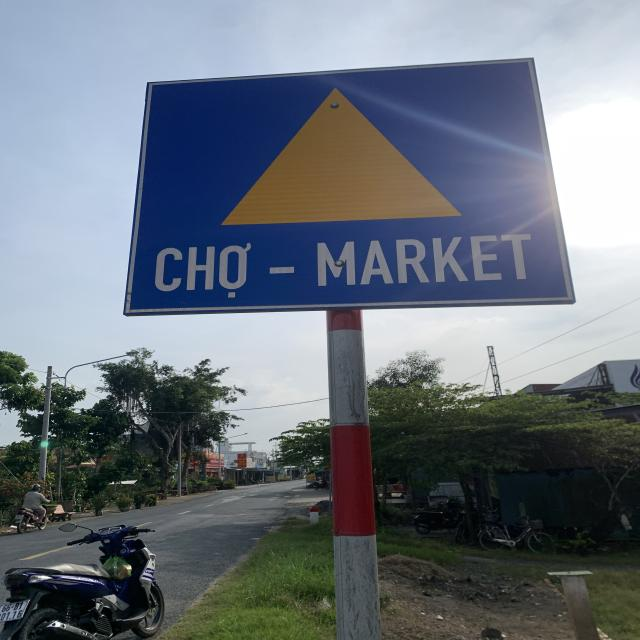Cho_Quay_Xe: (125, 59, 572, 313)
